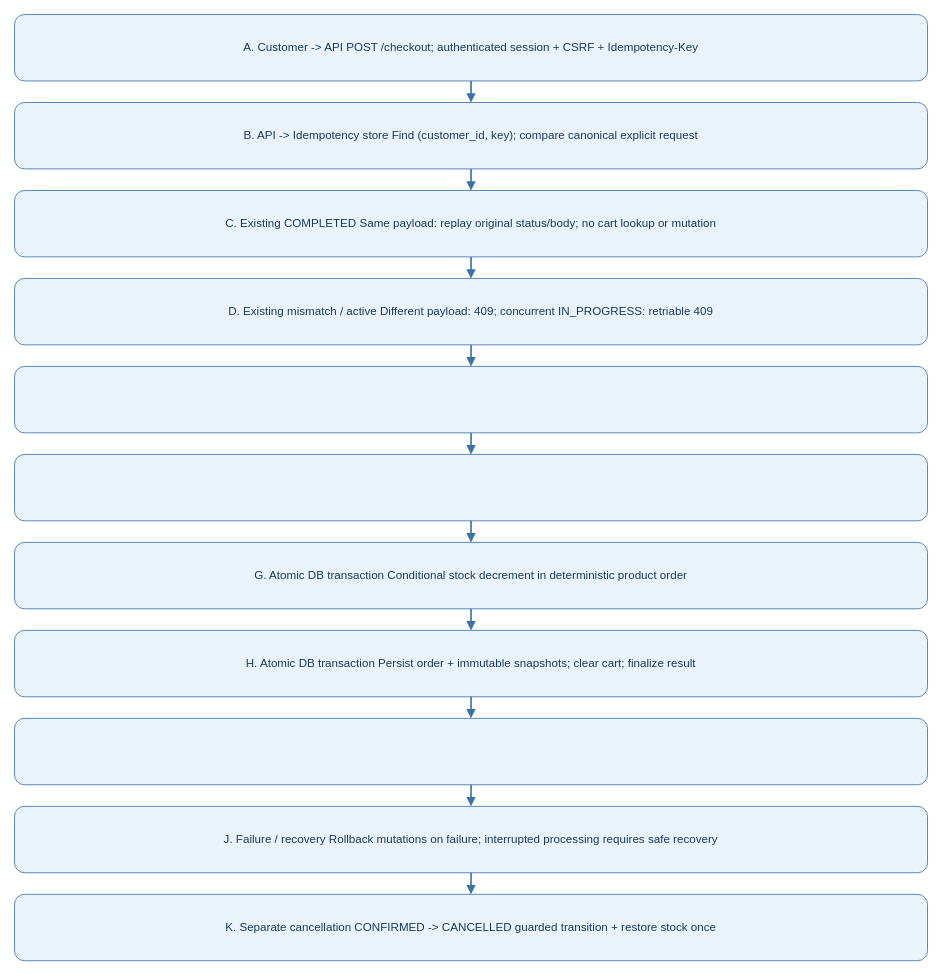
Some shapes in this 942 by 975 pixel diagram are drawn without their labels. The centre of each missing label's shape, as x and y in pixels:
"E. New key Reserve key; snapshot validated cart and shipping request" goes at point (471, 399).
"F. Mock payment Simulate outcome; no real card or funds" goes at point (471, 487).
"I. Response 201 Created; repeat same key returns same stored 201/result" goes at point (471, 751).
